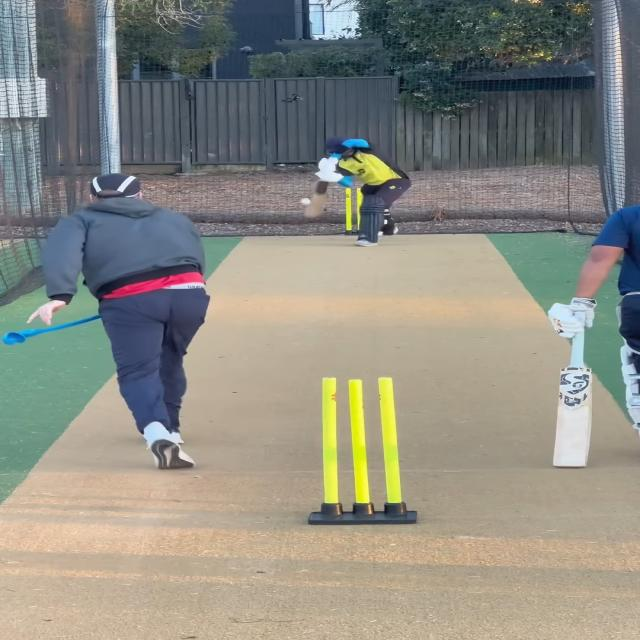ball: (299, 197, 313, 205)
stump: (304, 376, 421, 526)
